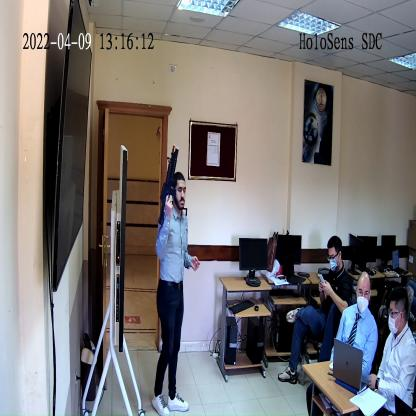handgun: (158, 150, 180, 224)
